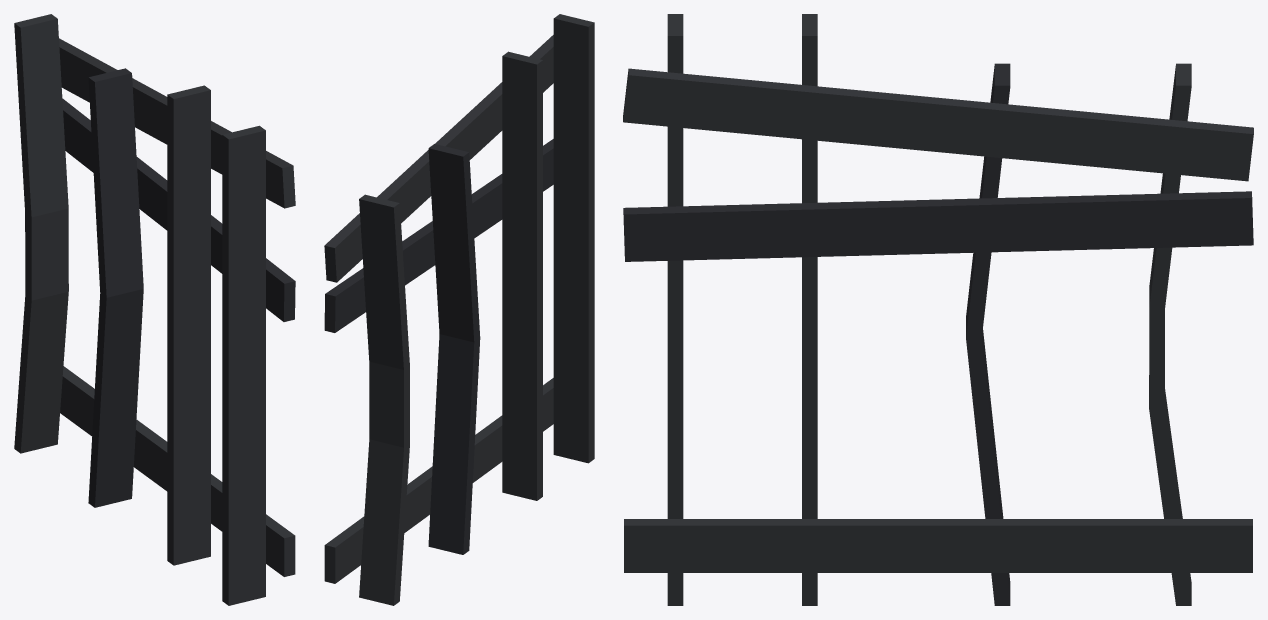
File: SM_Barriers_08.fbx
3 views of the same model, side by side, from view 1: azimuth 30°, elevation 25°; view 2: azimuth 150°, elevation 25°; view 3: azimuth 270°, elevation 25° (orthographic). The views are drawn at different scales.
Visible parts, largest first — view 1: SM_Barriers_08; view 2: SM_Barriers_08; view 3: SM_Barriers_08.
Boxes of the visible parts, <box> form: SM_Barriers_08: <box>14,14,295,605</box>; SM_Barriers_08: <box>324,14,594,605</box>; SM_Barriers_08: <box>623,14,1253,605</box>.
Size of the model in its own units: 13.12 by 120 by 120.
